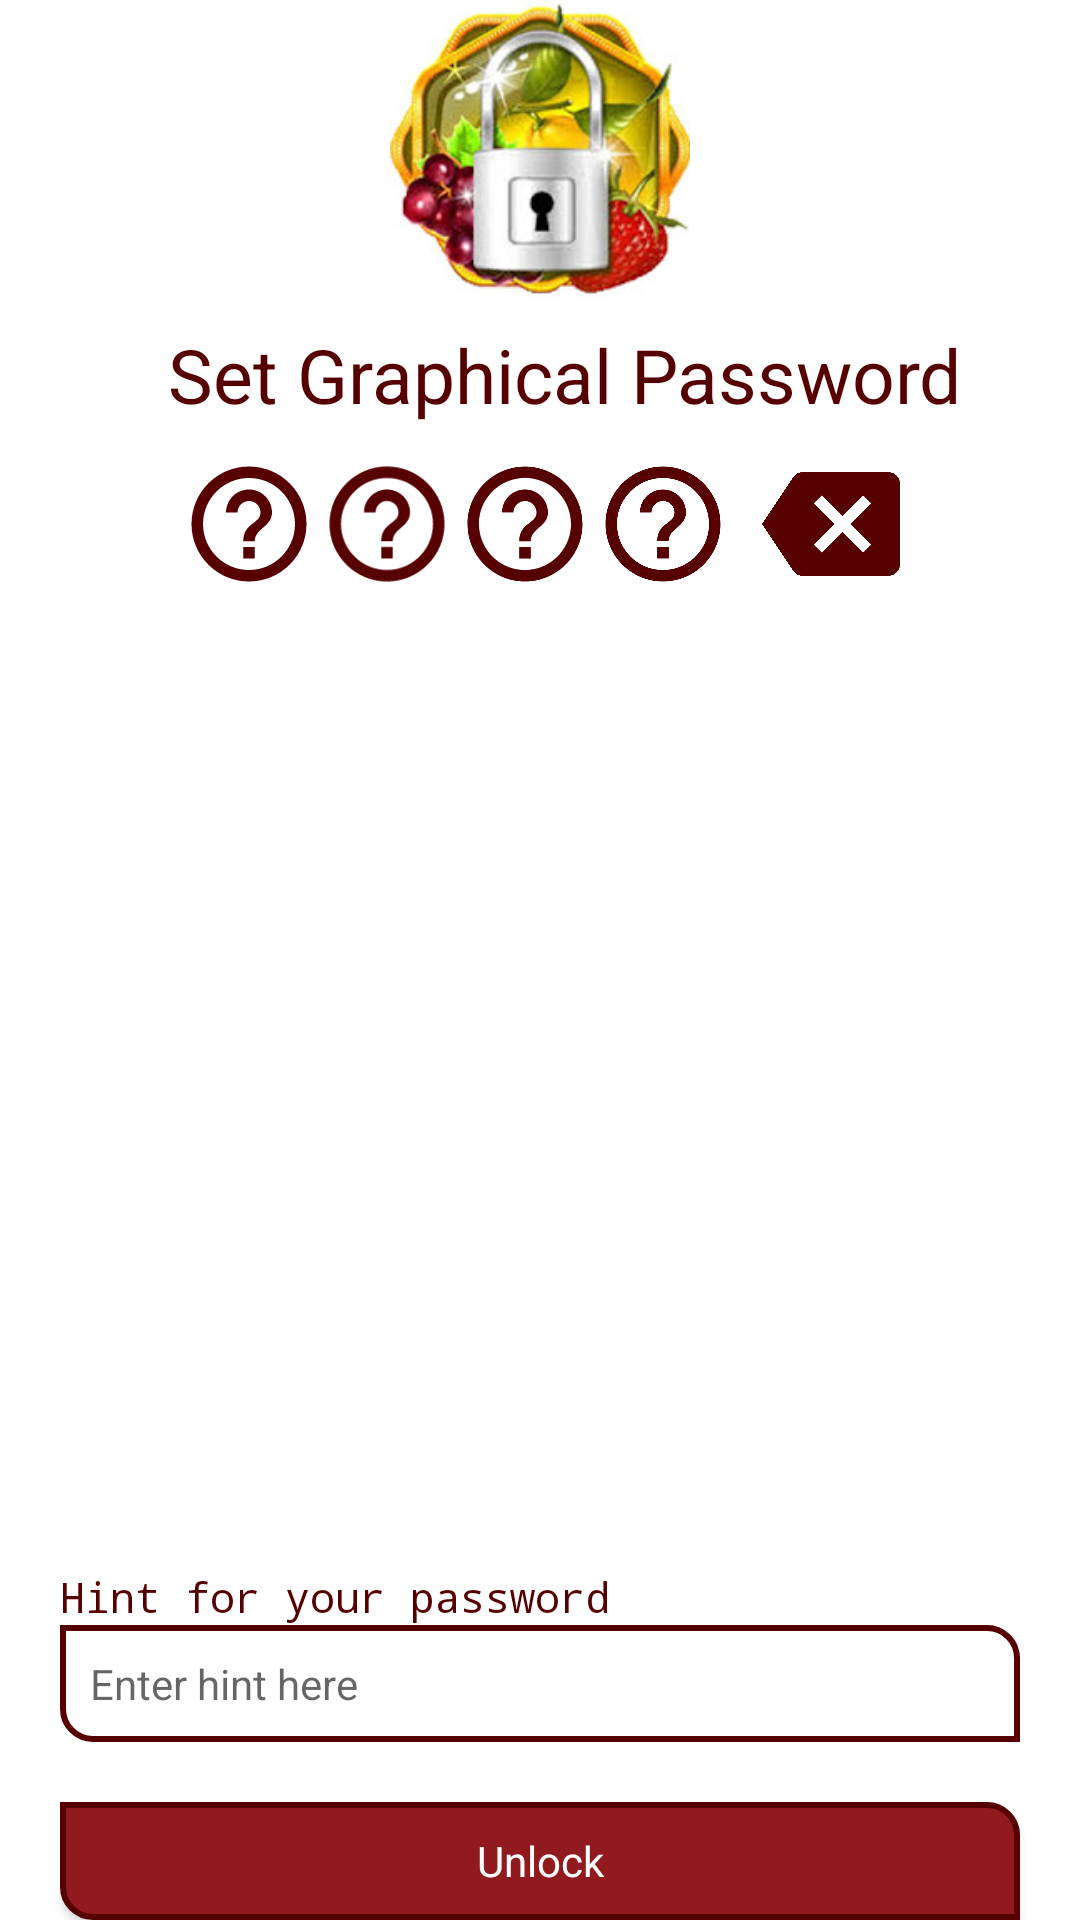

Icons on this 1080×1920 Android screen, each with its box as {"left": x1, "top": y1, "right": x2, "bottom": y2}:
backspace: {"left": 762, "top": 472, "right": 900, "bottom": 576}
help: {"left": 191, "top": 466, "right": 307, "bottom": 582}, {"left": 329, "top": 466, "right": 445, "bottom": 582}, {"left": 467, "top": 466, "right": 583, "bottom": 582}, {"left": 605, "top": 466, "right": 721, "bottom": 582}
